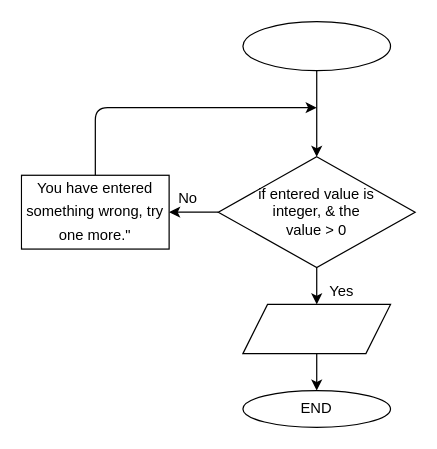
Image size: 437x449. Some labels were removed from this diagram. The shapes that lost their labels are listed below. From the top down, each one's box as (x1, y1, x2, y2) in pixels, then its label:
(242, 20, 391, 71): START
(242, 303, 391, 354): Return value
